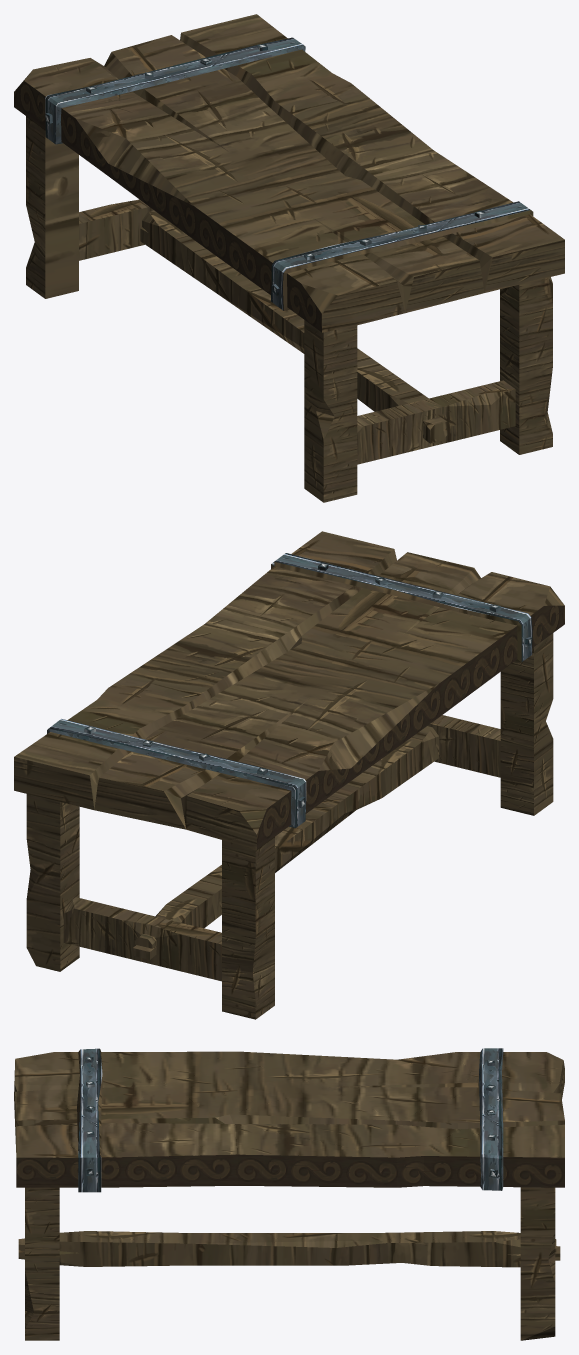
Rendered from SM_Prop_Table_Wood_03_variant_2.fbx.
The picture shows the model from 3 angles, top to bottom: view 1: azimuth 30°, elevation 25°; view 2: azimuth 150°, elevation 25°; view 3: azimuth 270°, elevation 25°; orthographic projection. The views are drawn at different scales.
Visible parts, largest first — view 1: SM_Prop_Table_Wood_03; view 2: SM_Prop_Table_Wood_03; view 3: SM_Prop_Table_Wood_03.
Boxes of the visible parts, bbox=[...] form: SM_Prop_Table_Wood_03: bbox=[14, 14, 564, 502]; SM_Prop_Table_Wood_03: bbox=[14, 531, 564, 1019]; SM_Prop_Table_Wood_03: bbox=[14, 1048, 564, 1340].
Size of the model in its own units: 113 by 91.96 by 239.
